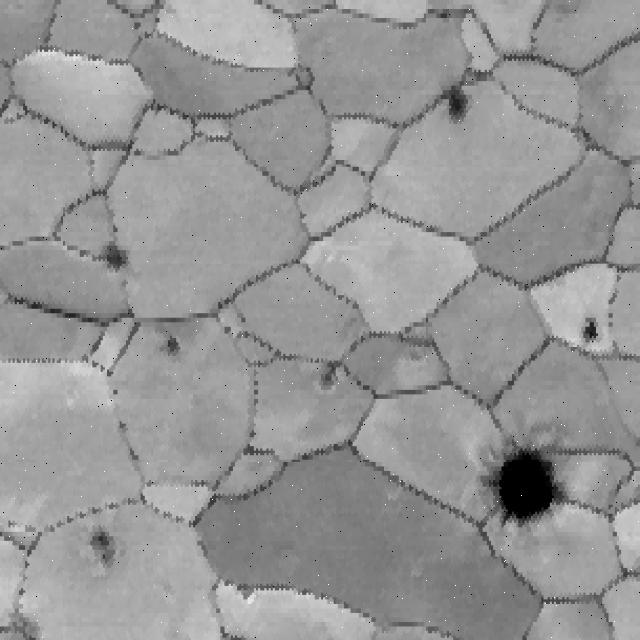good_void: (488, 440, 562, 536), (99, 238, 151, 282), (316, 350, 348, 403), (87, 524, 125, 566), (442, 84, 475, 132), (579, 314, 604, 347), (157, 333, 188, 358), (219, 322, 233, 339)
